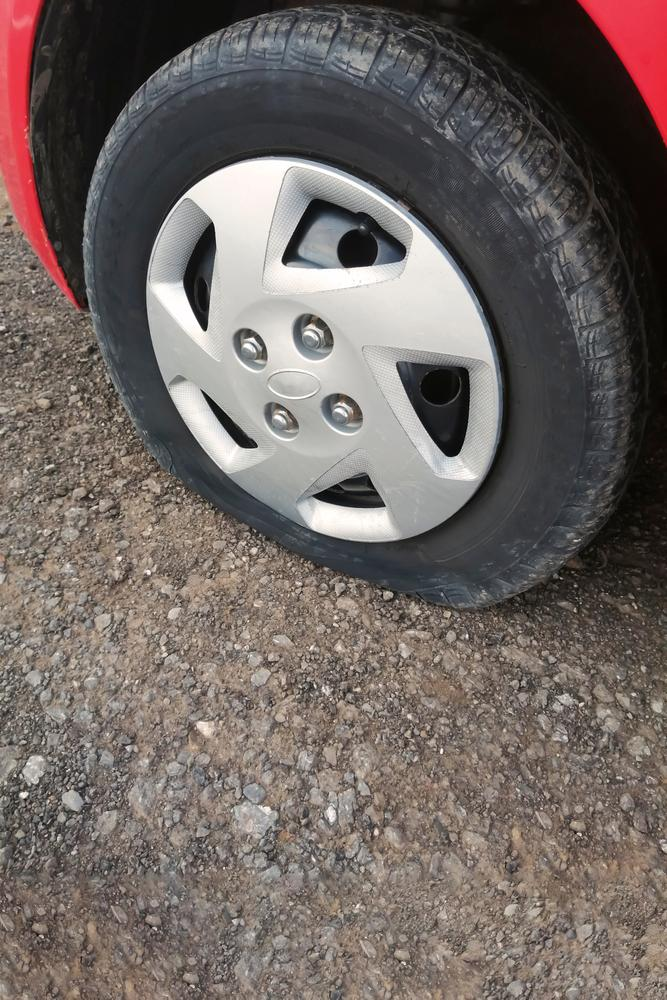tire flat: (84, 0, 650, 611)
